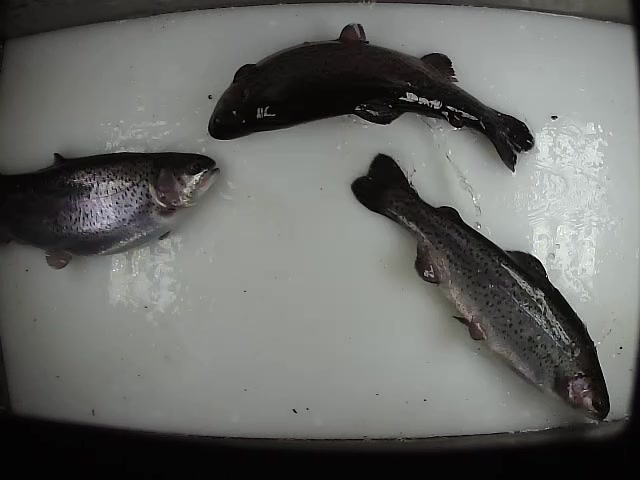fish: (346, 150, 610, 426), (207, 19, 537, 174), (1, 145, 221, 270)
